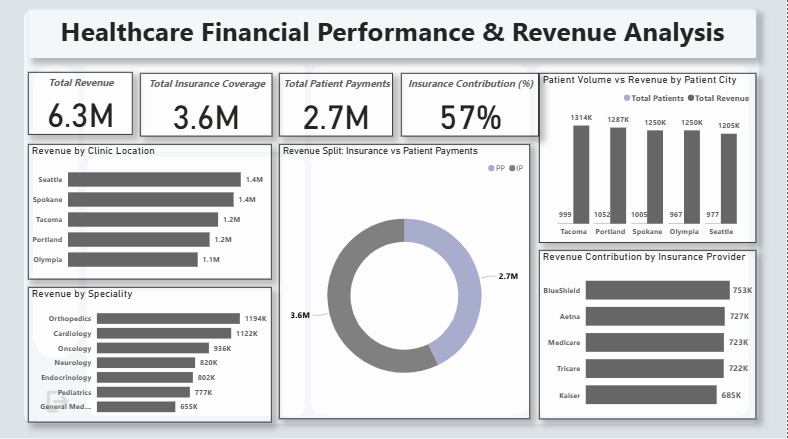

What the dashboard file says about the page in this screenshot:
{"tool":"powerbi","page":{"name":"Financials","canvas":[1280,720],"ordinal":2},"visuals":[{"type":"card","fields":{"Values":["_Measure Table.Total Revenue"]},"box":[46.3,122.5,170.3,101.6],"z":0},{"type":"card","fields":{"Values":["_Measure Table.Total Insurance"]},"box":[227.1,124,215.1,103.1],"z":1000},{"type":"card","fields":{"Values":["_Measure Table.Total Patient Paid"]},"box":[454.1,124,185.2,103.1],"z":2000},{"type":"card","fields":{"Values":["_Measure Table.Insurance %"]},"box":[651.3,124,224.1,103.1],"z":3000},{"type":"barChart","title":"Revenue by Clinic Location","fields":{"Category":["doctors.clinic_location"],"Y":["_Measure Table.Total Revenue"]},"box":[46.3,239,395.9,219.6],"z":4000},{"type":"barChart","title":"Revenue by Speciality","fields":{"Category":["doctors.specialty"],"Y":["_Measure Table.Total Revenue"]},"box":[46.3,470.5,395.9,219.6],"z":5000},{"type":"donutChart","title":"Revenue Split: Insurance vs Patient Payments","fields":{"Y":["_Measure Table.Total Patient Paid","_Measure Table.Total Insurance"]},"box":[454.1,239,407.8,446.6],"z":6000},{"type":"barChart","title":"Revenue Contribution by Insurance Provider","fields":{"Category":["patients.insurance_provider"],"Y":["_Measure Table.Total Insurance"]},"box":[875.4,410.8,352.5,274.9],"z":7000},{"type":"clusteredColumnChart","title":"Patient Volume vs Revenue by Patient City","fields":{"Category":["patients.city"],"Y":["_Measure Table.Total Patients","_Measure Table.Total Revenue"]},"box":[875.4,124,352.5,276.3],"z":8000},{"type":"textbox","box":[46.7,21.7,1181.7,78.3],"z":9000}]}

Visuals, with their boxes in screenshot pixels (x1, y1, x2, y2), scaled from the page's 1280x720 canvas onto the 788x439 screenshot:
card - _Measure Table.Total Revenue: select_region(29, 75, 133, 137)
card - _Measure Table.Total Insurance: select_region(140, 76, 272, 138)
card - _Measure Table.Total Patient Paid: select_region(280, 76, 394, 138)
card - _Measure Table.Insurance %: select_region(401, 76, 539, 138)
"Revenue by Clinic Location" barChart: select_region(29, 146, 272, 280)
"Revenue by Speciality" barChart: select_region(29, 287, 272, 421)
"Revenue Split: Insurance vs Patient Payments" donutChart: select_region(280, 146, 531, 418)
"Revenue Contribution by Insurance Provider" barChart: select_region(539, 250, 756, 418)
"Patient Volume vs Revenue by Patient City" clusteredColumnChart: select_region(539, 76, 756, 244)
textbox: select_region(29, 13, 756, 61)
